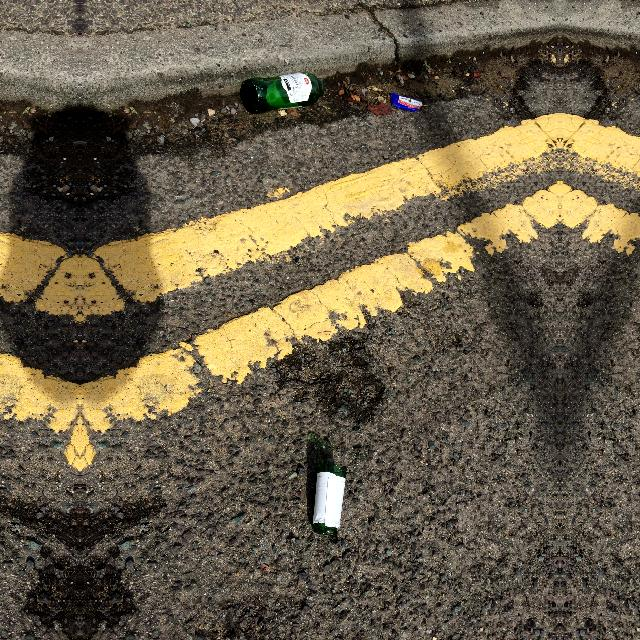Glass: (238, 68, 328, 116), (309, 460, 349, 540)
Plastic: (387, 90, 425, 114)
